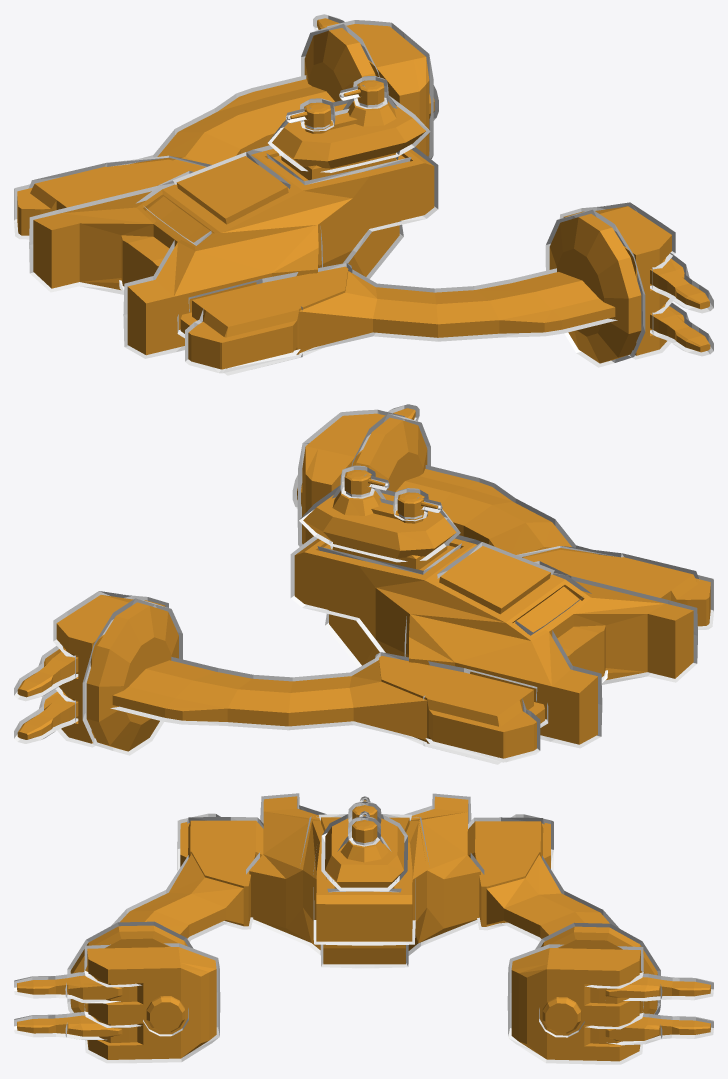
The model's file is ship7_orange.glb.
3 renders of one model, top to bottom at view 1: azimuth 30°, elevation 25°; view 2: azimuth 150°, elevation 25°; view 3: azimuth 270°, elevation 25°, orthographic. The views are drawn at different scales.
Visible parts, largest first — view 1: ME_ship_IndexedFaceSet; view 2: ME_ship_IndexedFaceSet; view 3: ME_ship_IndexedFaceSet.
Boxes of the visible parts, <box> form: ME_ship_IndexedFaceSet: <box>14,14,713,375</box>; ME_ship_IndexedFaceSet: <box>14,404,713,764</box>; ME_ship_IndexedFaceSet: <box>14,793,713,1064</box>.
Size of the model in its own units: 238 by 105 by 355.
